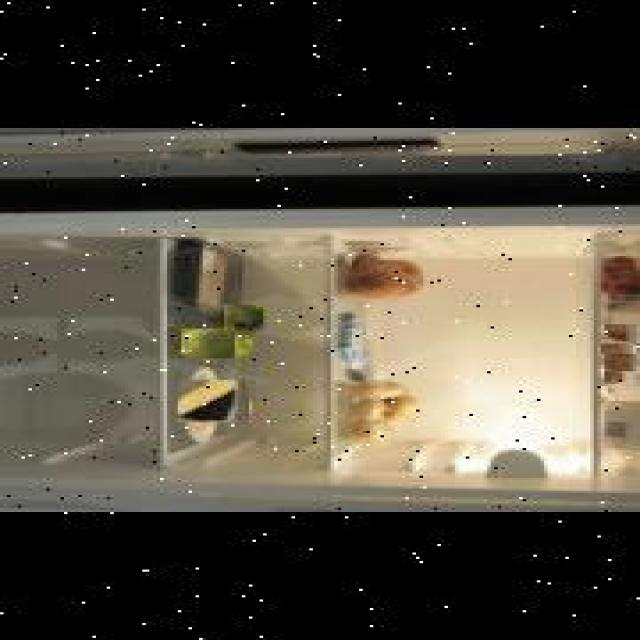apple: (178, 328, 231, 358), (220, 306, 260, 332), (227, 330, 249, 360)
bread: (0, 256, 46, 307)
cheese: (180, 380, 250, 422)
egg: (604, 324, 640, 344), (604, 354, 640, 373), (604, 371, 640, 388), (601, 337, 636, 354)
